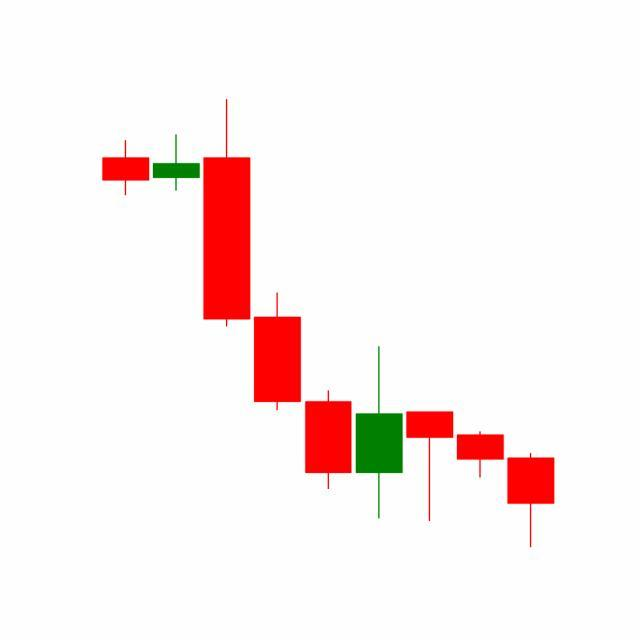Hikkake Pattern: (302, 343, 555, 548)
